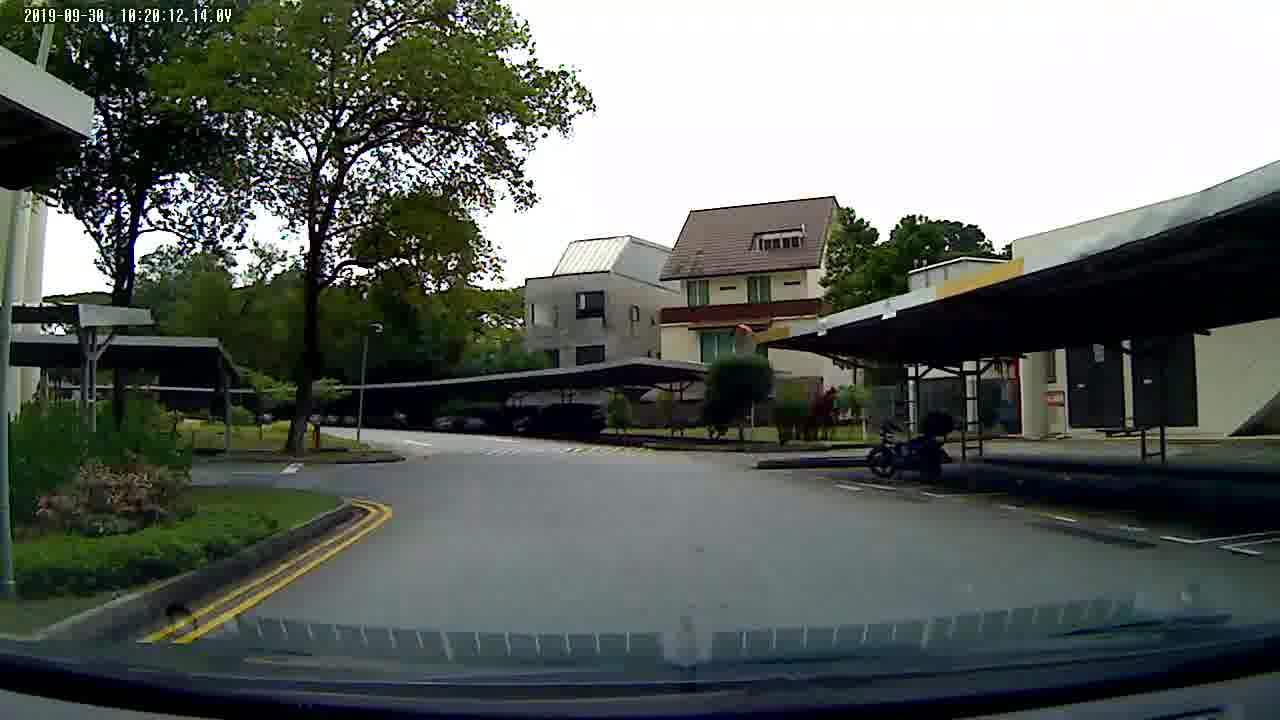car: (514, 400, 607, 442)
